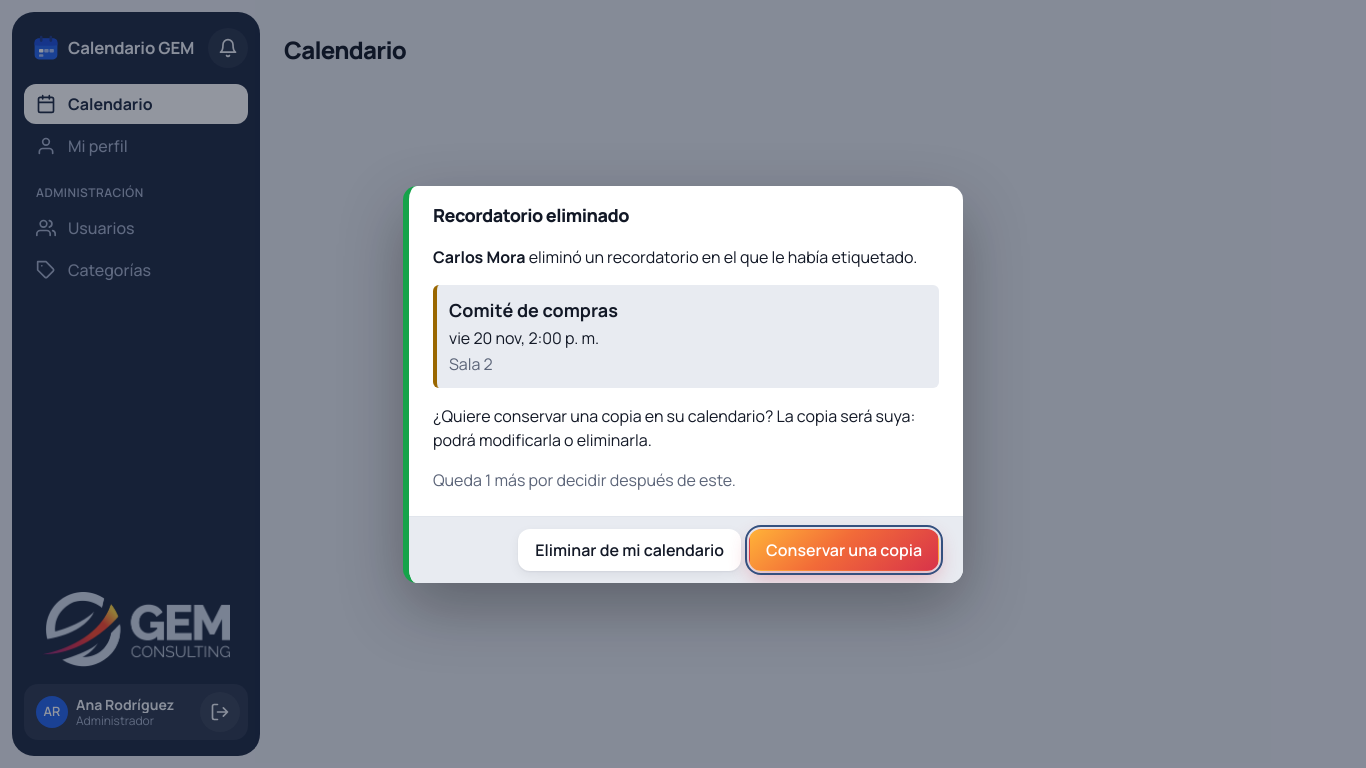
Test case: NotificationsProvider y campana › ventana Conservar / Eliminar › al entrar presenta las pendientes una por una y no se puede cerrar sin decidir
This screenshot has width=1366, height=768.
expect the text "Comité de compras" is shown: met, box x1=449 y1=298 x2=618 y2=322
expect the text "vie 20 nov, 2:00 p. m." is shown: met, box x1=449 y1=326 x2=599 y2=348
Press Escape
expect the dialog "Recordatorio eliminado" is shown: met, box x1=403 y1=186 x2=963 y2=582
Click the button "Conservar una copia": x=844, y=550 x1=749 y1=528 x2=939 y2=570
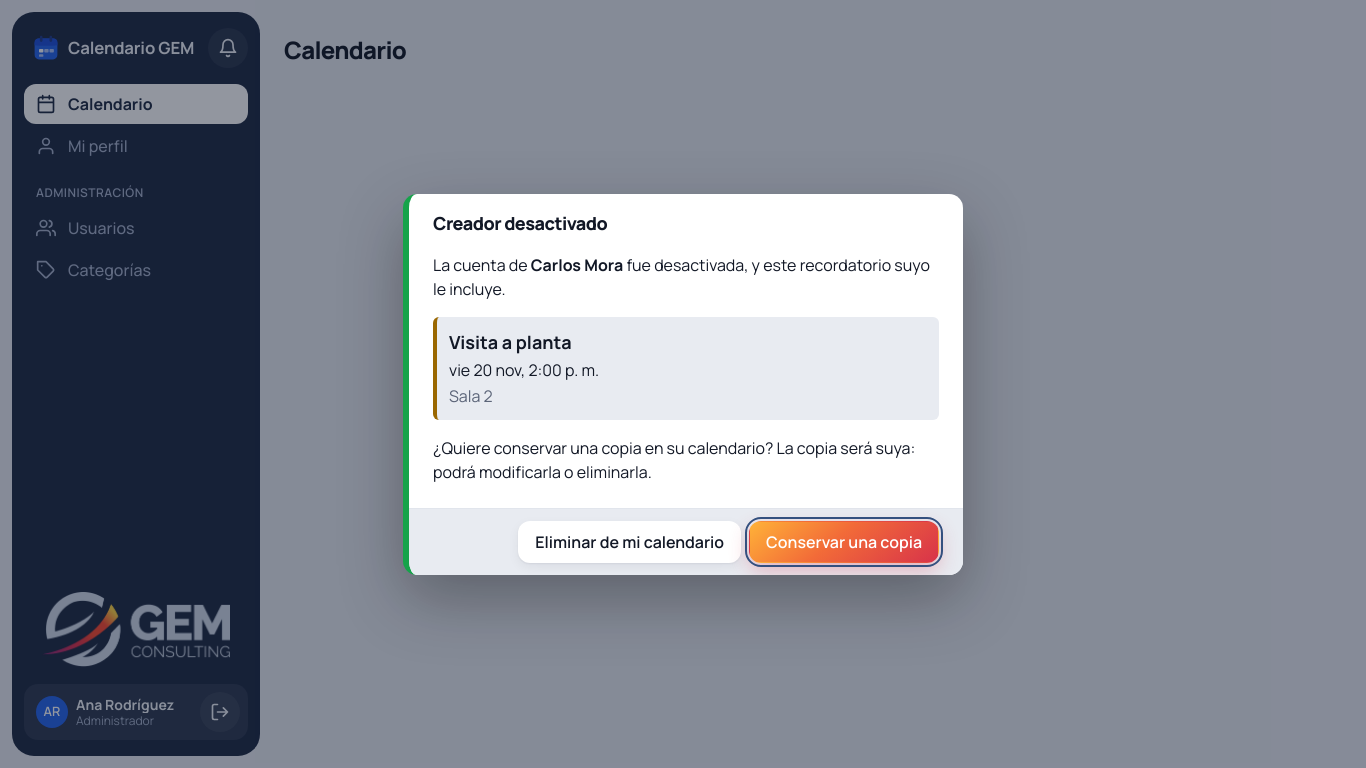
expect the text "Visita a planta" is shown: met, box x1=449 y1=330 x2=572 y2=354
Click the button "Eliminar de mi calendario": x=630, y=542 x1=518 y1=520 x2=741 y2=562
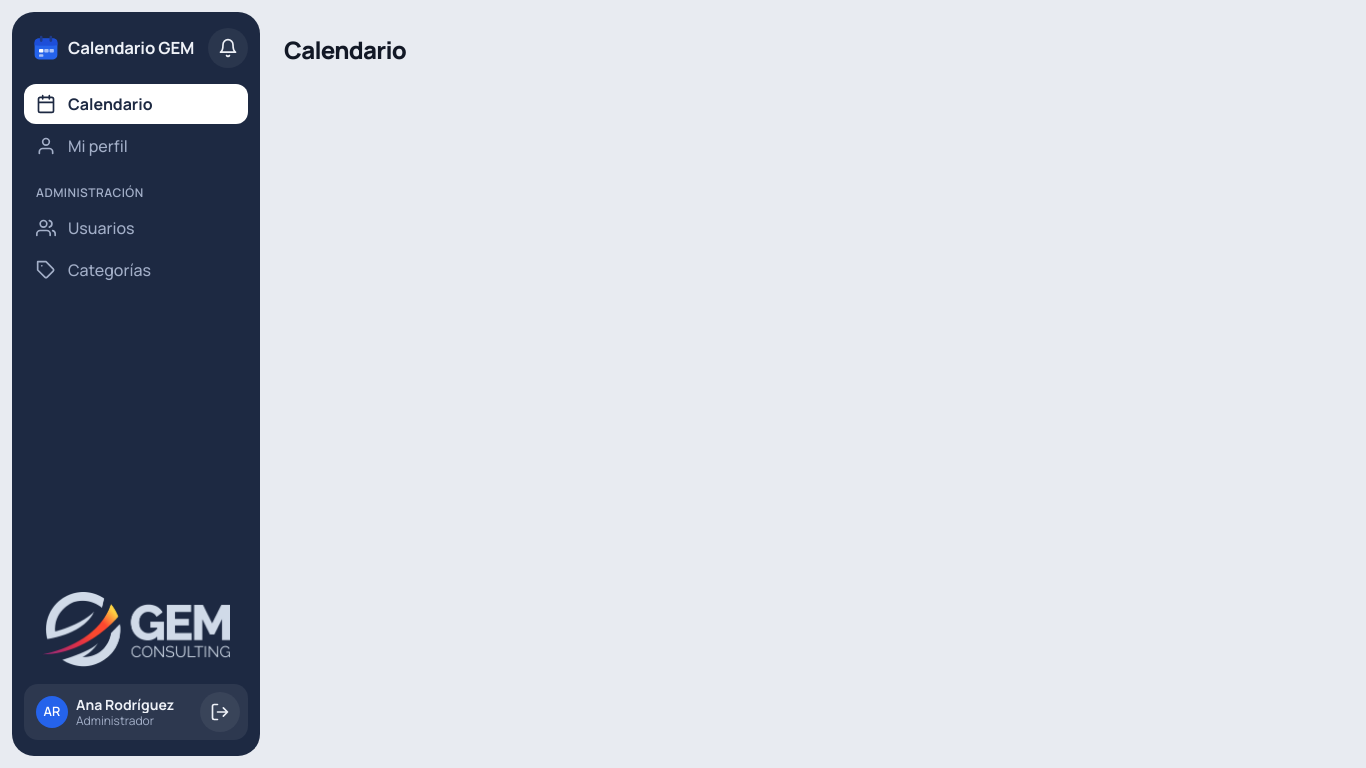
expect the dialog is gone: met
